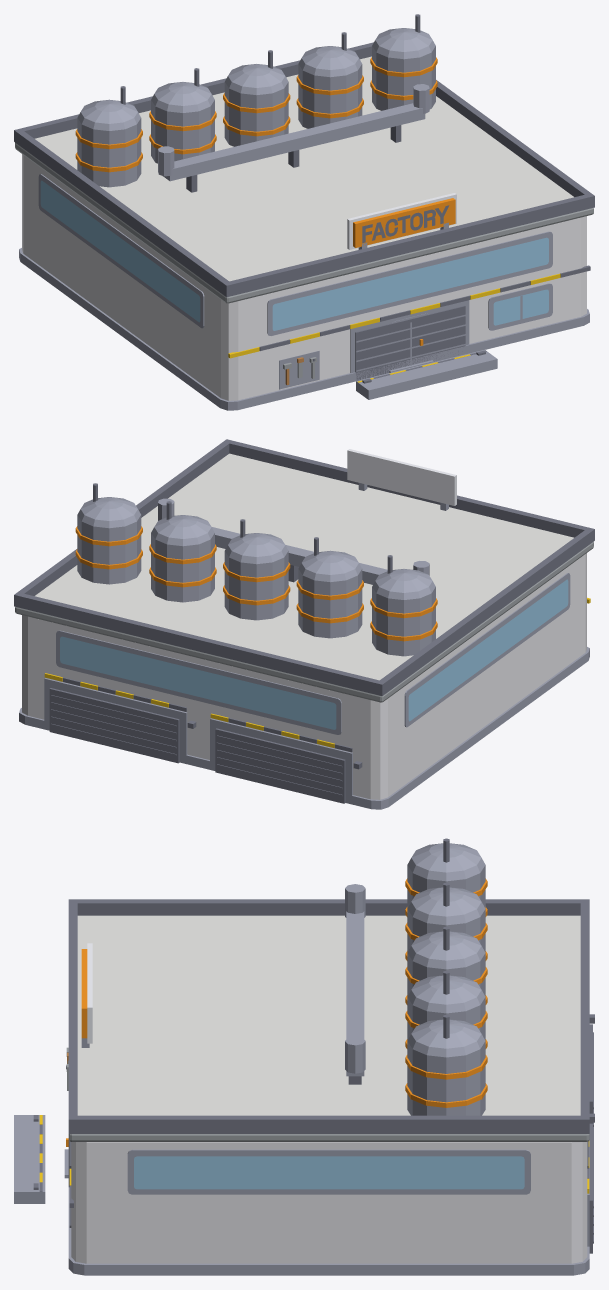
Rendered from factory-2x2-t5-tone-a.glb.
3 renders of one model, top to bottom at view 1: azimuth 30°, elevation 25°; view 2: azimuth 150°, elevation 25°; view 3: azimuth 270°, elevation 25°, orthographic. The views are drawn at different scales.
Visible parts, largest first — view 1: factory-2x2-t5-tone-a; view 2: factory-2x2-t5-tone-a; view 3: factory-2x2-t5-tone-a.
Boxes of the visible parts, <box> form: factory-2x2-t5-tone-a: <box>14,14,594,410</box>; factory-2x2-t5-tone-a: <box>14,439,594,809</box>; factory-2x2-t5-tone-a: <box>14,838,594,1275</box>.
Size of the model in its own units: 2 by 1.04 by 2.23.
Materials: 1 (1 with a texture image).
